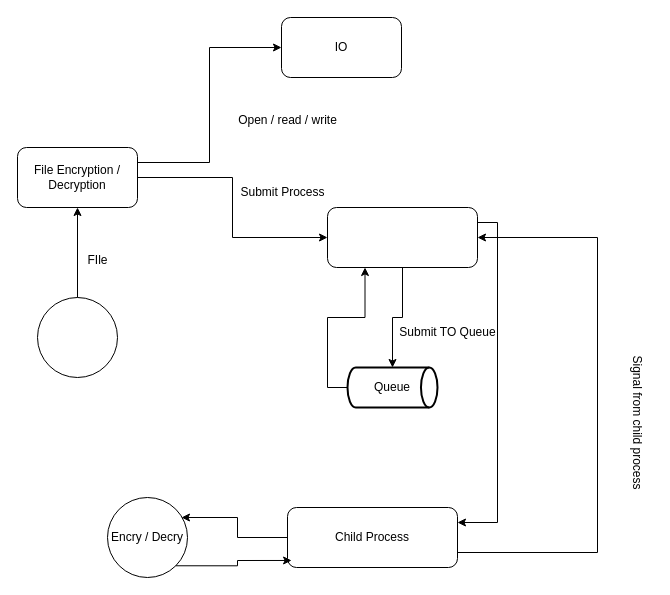
Some shapes in this 670 by 595 pixel diagram are drawn without their labels. Each missing label, with the centre of its shape:
"Process Management" goes at pixel 402 237.
"User" goes at pixel 77 337.
